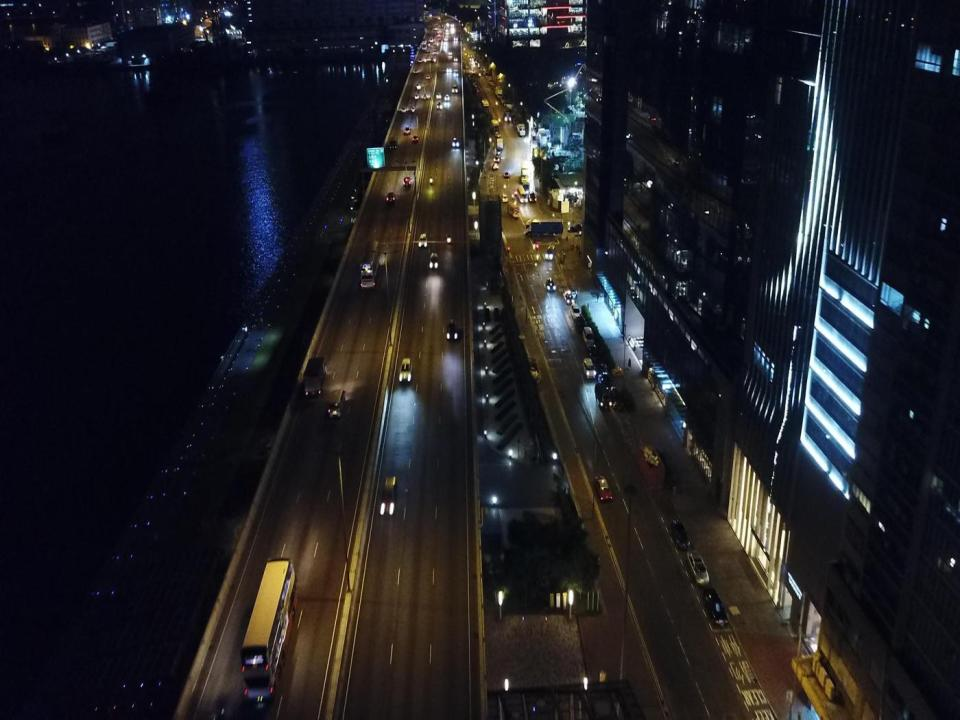bus: (241, 558, 298, 702), (360, 240, 381, 289), (507, 201, 520, 218), (517, 185, 527, 203), (421, 40, 426, 50)
car: (704, 588, 728, 628), (685, 550, 710, 587), (670, 519, 690, 549), (382, 477, 396, 514), (594, 475, 612, 502), (597, 364, 611, 389), (399, 358, 412, 382), (610, 387, 623, 408), (446, 320, 457, 340), (570, 302, 580, 320), (576, 315, 586, 332), (429, 252, 438, 269), (588, 344, 598, 359), (545, 277, 556, 290), (568, 224, 584, 231), (404, 176, 412, 188), (387, 192, 395, 203), (412, 135, 418, 143), (444, 94, 450, 101), (453, 69, 458, 77), (422, 94, 428, 100), (492, 163, 498, 169), (504, 172, 509, 179), (494, 155, 499, 162), (436, 93, 442, 98), (453, 36, 458, 41), (446, 68, 452, 72), (426, 74, 430, 80), (450, 23, 454, 27), (444, 37, 448, 41), (454, 57, 458, 61), (449, 50, 452, 55), (424, 58, 428, 61), (418, 59, 422, 62), (414, 70, 418, 73), (446, 28, 448, 32), (431, 58, 433, 62), (446, 32, 448, 35)
truck: (303, 357, 326, 397), (524, 219, 563, 236), (521, 160, 529, 183), (389, 136, 398, 149), (516, 123, 525, 136), (496, 138, 504, 149), (452, 82, 458, 92)
van: (328, 388, 345, 418), (594, 383, 612, 408), (582, 357, 596, 378), (582, 326, 594, 345), (545, 245, 556, 260), (564, 291, 574, 304), (418, 233, 427, 247), (528, 190, 536, 203), (452, 138, 459, 147), (504, 112, 511, 121), (501, 194, 508, 202), (436, 101, 442, 109), (404, 127, 410, 134), (416, 83, 421, 90), (414, 94, 419, 100), (410, 106, 416, 111), (402, 106, 406, 112)
